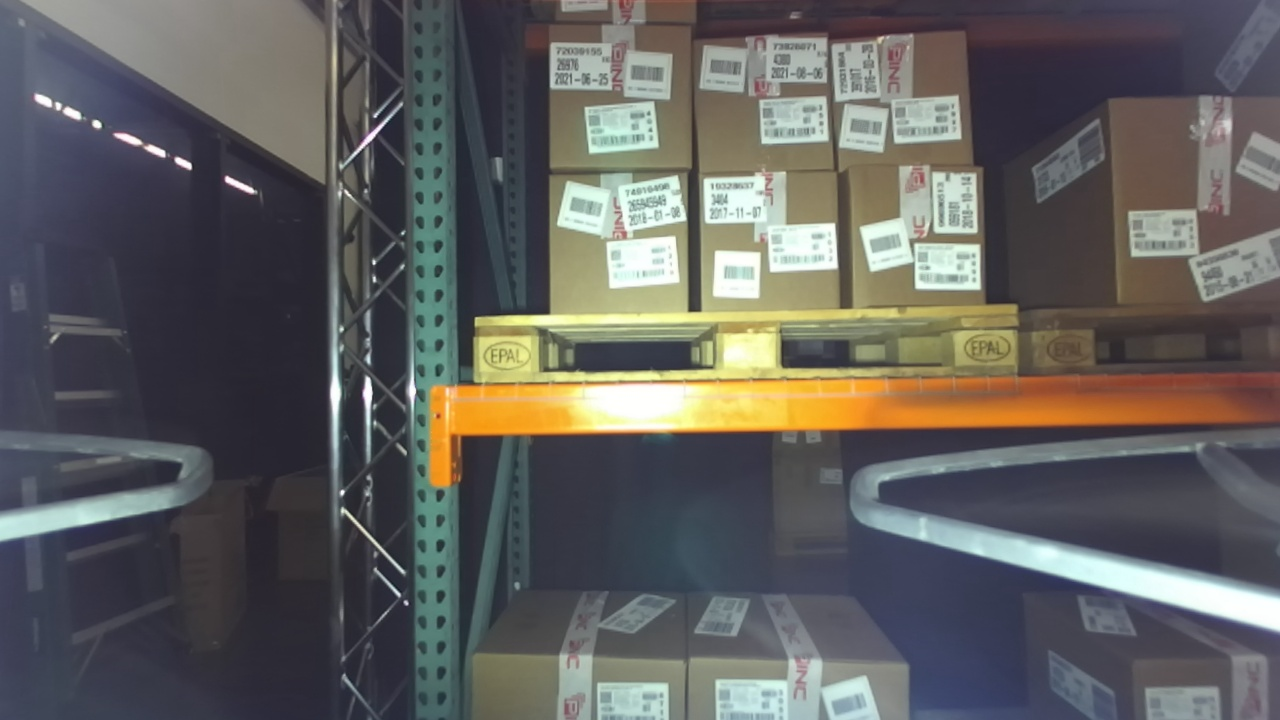box: (1094, 76, 1280, 336), (680, 151, 871, 326), (534, 13, 711, 196), (825, 150, 1003, 326), (678, 14, 851, 195), (525, 156, 717, 313), (816, 14, 989, 175)
